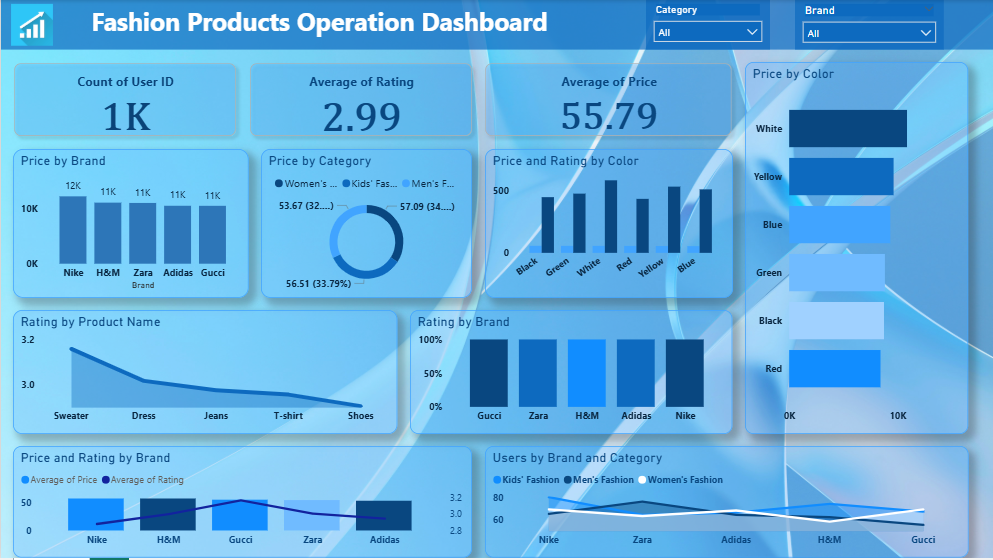

This screenshot's page, from the dashboard's own definition file:
{"tool":"powerbi","page":{"name":"Page 1","canvas":[1280,720],"ordinal":0},"visuals":[{"type":"textbox","box":[0,0,1280,64],"z":0},{"type":"slicer","fields":{"Values":["fashion_products.Category"]},"box":[832,0,160,64],"z":1},{"type":"slicer","fields":{"Values":["fashion_products.Brand"]},"box":[1024,0,192,64],"z":2},{"type":"image","box":[0,0,80,64],"z":3},{"type":"cardVisual","fields":{"Data":["CountNonNull(fashion_products.User ID)"]},"box":[0,64,320,128],"z":4},{"type":"cardVisual","fields":{"Data":["Avg(fashion_products.Rating)"]},"box":[304,64,320,128],"z":5},{"type":"cardVisual","fields":{"Data":["Avg(fashion_products.Price)"]},"box":[608,64,352,128],"z":6},{"type":"clusteredColumnChart","title":"Price by Brand","fields":{"Category":["fashion_products.Brand"],"Y":["Sum(fashion_products.Price)"]},"box":[16,192,304,192],"z":7},{"type":"donutChart","title":"Price by Category","fields":{"Category":["fashion_products.Category"],"Y":["Avg(fashion_products.Price)"]},"box":[336,192,272,192],"z":8},{"type":"clusteredColumnChart","title":"Price and Rating by Color","fields":{"Category":["fashion_products.Color"],"Y":["Avg(fashion_products.Price)","Sum(fashion_products.Rating)"]},"box":[624,192,320,192],"z":9},{"type":"barChart","title":"Price by Color","fields":{"Category":["fashion_products.Color"],"Y":["Sum(fashion_products.Price)"]},"box":[960,80,288,480],"z":10},{"type":"stackedAreaChart","title":"Rating by Product Name","fields":{"Category":["fashion_products.Product Name"],"Y":["Avg(fashion_products.Rating)"]},"box":[16,400,496,160],"z":11},{"type":"hundredPercentStackedColumnChart","title":"Rating by Brand","fields":{"Category":["fashion_products.Brand"],"Y":["Avg(fashion_products.Rating)"]},"box":[528,400,416,160],"z":12},{"type":"lineClusteredColumnComboChart","title":"Price and Rating by Brand","fields":{"Y":["Avg(fashion_products.Price)"],"Category":["fashion_products.Brand"],"Y2":["Avg(fashion_products.Rating)"]},"box":[16,576,592,144],"z":13},{"type":"areaChart","title":"Users by Brand and Category","fields":{"Y":["CountNonNull(fashion_products.User ID)"],"Category":["fashion_products.Brand"],"Series":["fashion_products.Category"]},"box":[624,576,624,144],"z":14}]}

Visuals, with their boxes in screenshot pixels (x1, y1, x2, y2), scaled from the page's 1280x720 canvas onto the 993x560 screenshot:
textbox: l=0, t=0, r=992, b=50
slicer - fashion_products.Category: l=645, t=0, r=770, b=50
slicer - fashion_products.Brand: l=794, t=0, r=943, b=50
image: l=0, t=0, r=62, b=50
cardVisual - CountNonNull(fashion_products.User ID): l=0, t=50, r=248, b=149
cardVisual - Avg(fashion_products.Rating): l=236, t=50, r=484, b=149
cardVisual - Avg(fashion_products.Price): l=472, t=50, r=745, b=149
"Price by Brand" clusteredColumnChart: l=12, t=149, r=248, b=299
"Price by Category" donutChart: l=261, t=149, r=472, b=299
"Price and Rating by Color" clusteredColumnChart: l=484, t=149, r=732, b=299
"Price by Color" barChart: l=745, t=62, r=968, b=436
"Rating by Product Name" stackedAreaChart: l=12, t=311, r=397, b=436
"Rating by Brand" hundredPercentStackedColumnChart: l=410, t=311, r=732, b=436
"Price and Rating by Brand" lineClusteredColumnComboChart: l=12, t=448, r=472, b=559
"Users by Brand and Category" areaChart: l=484, t=448, r=968, b=559
